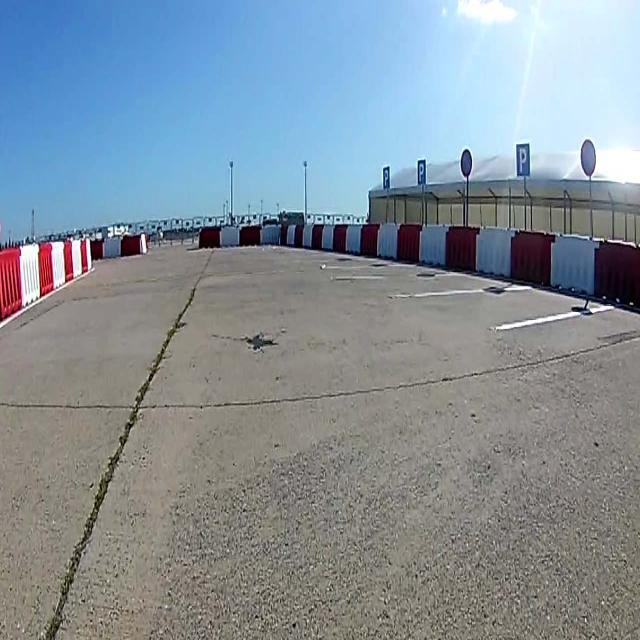park: (516, 143, 530, 178), (418, 158, 427, 186), (382, 166, 391, 190)
parkyasak: (580, 138, 596, 177), (460, 148, 473, 178)
